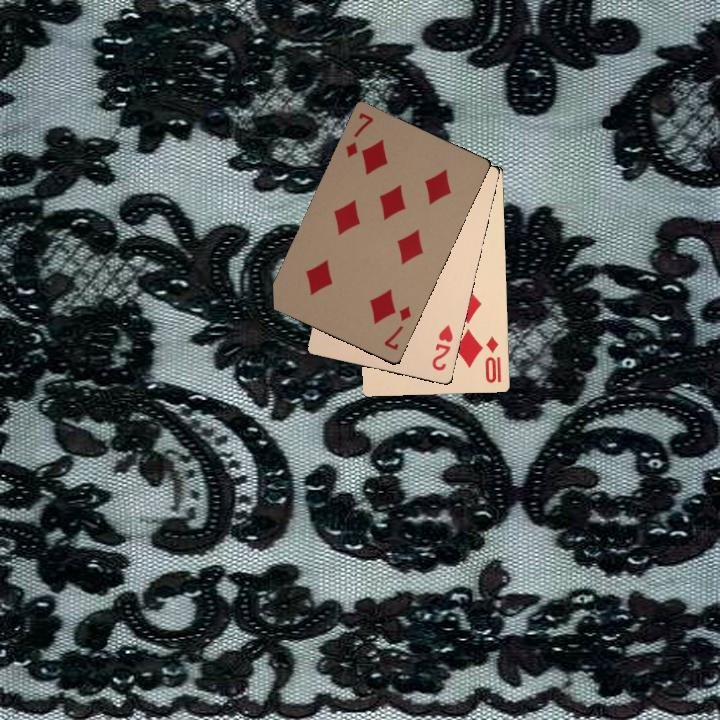10d: (481, 332, 504, 385)
2h: (428, 321, 455, 373)
7d: (341, 108, 376, 160), (380, 302, 414, 353)
